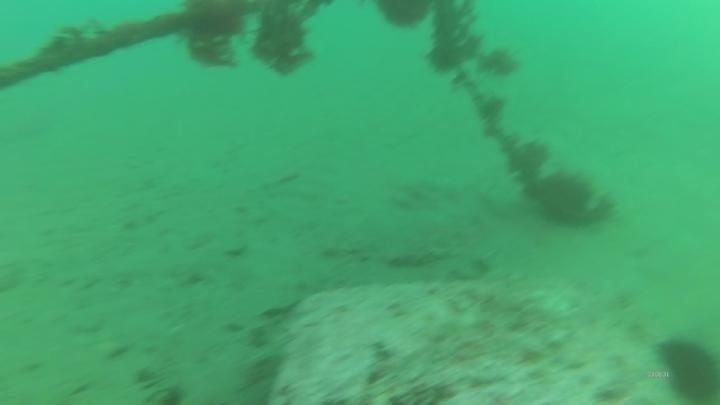echinus: (655, 333, 720, 405)
